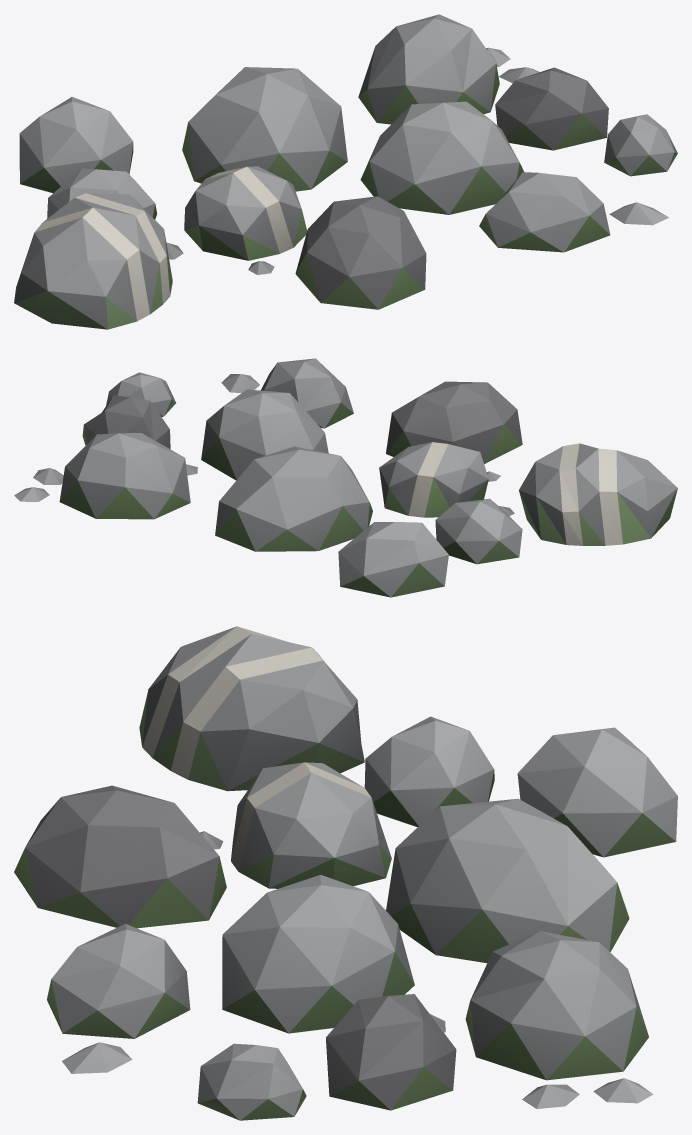
The model's file is stones.glb.
The picture shows the model from 3 angles, top to bottom: view 1: azimuth 30°, elevation 25°; view 2: azimuth 150°, elevation 25°; view 3: azimuth 270°, elevation 25°; orthographic projection. The views are drawn at different scales.
Parts seen in each view (by area): view 1: stones; view 2: stones; view 3: stones.
Boxes of the visible parts, x1,y1,x2,y2 form: stones: (14,14,677,329); stones: (14,358,677,597); stones: (14,626,677,1120).
Bounding box in the file's own units: 2.4 × 0.301 × 1.6.
